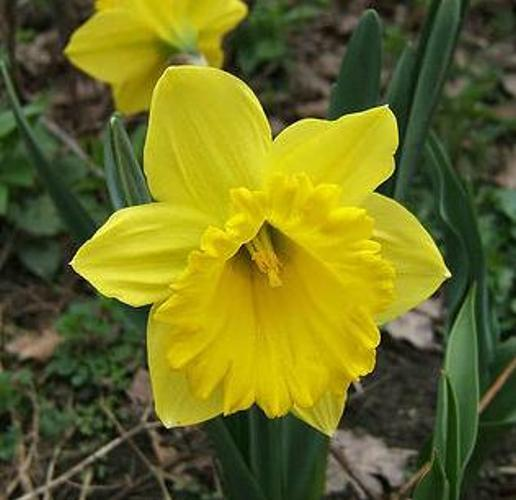flower1: (66, 60, 452, 437)
